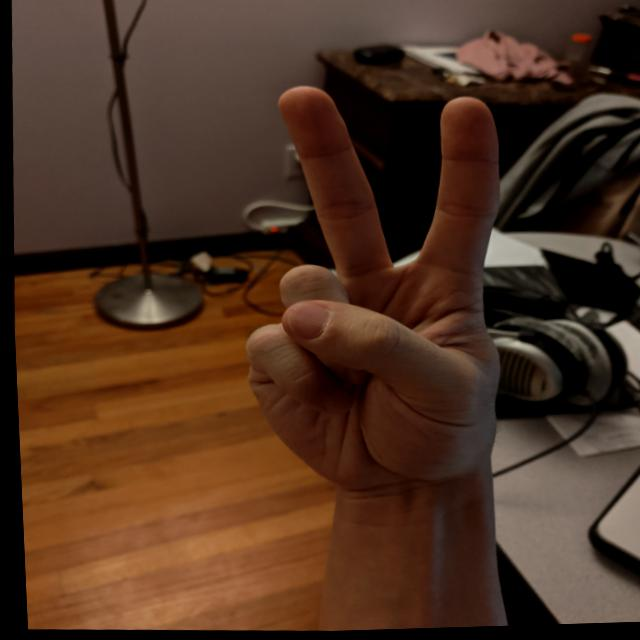V: (217, 74, 526, 508)
